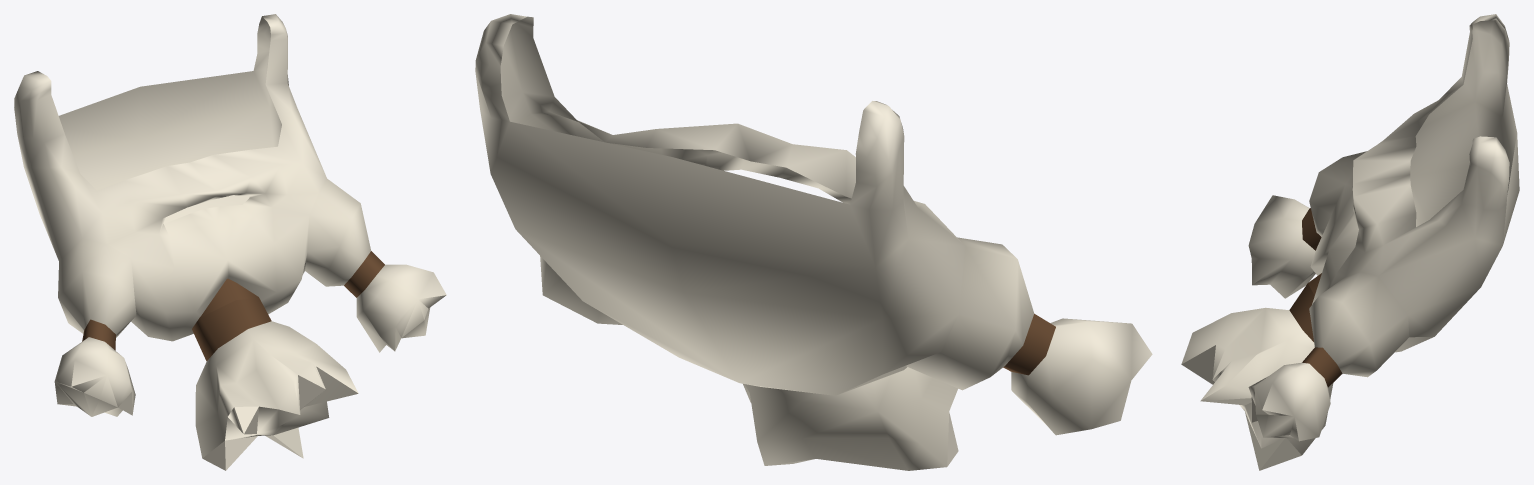
Rendered from Mustache_27.fbx.
3 views of the same model, side by side, from view 1: azimuth 30°, elevation 25°; view 2: azimuth 150°, elevation 25°; view 3: azimuth 270°, elevation 25° (orthographic). The views are drawn at different scales.
Visible parts, largest first — view 1: Mustache_27; view 2: Mustache_27; view 3: Mustache_27.
Part boxes in pixels (x1,y1,x2,y2): Mustache_27: (14,14,446,470); Mustache_27: (475,14,1152,470); Mustache_27: (1181,14,1519,470).
Bounding box in the file's own units: 74.57 × 64.9 × 53.82.
